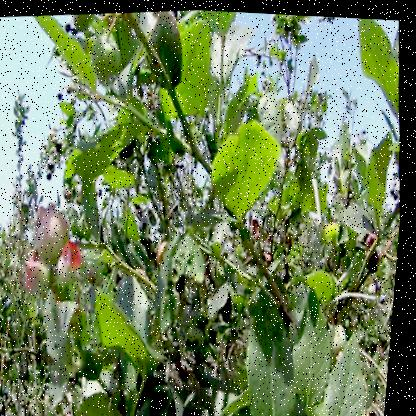intermediate: (35, 199, 80, 264), (29, 252, 64, 307), (57, 241, 93, 287)
young: (334, 320, 356, 359)
